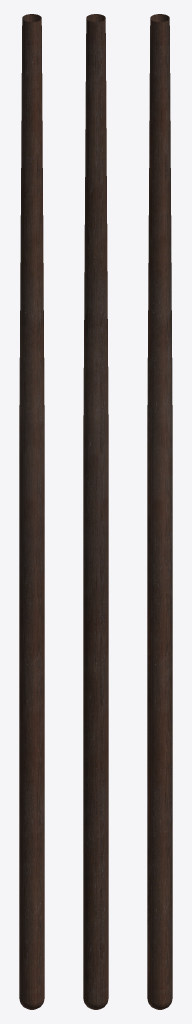
The model's file is wm_pelagir_spear_handle.fbx.
3 views of the same model, side by side, from view 1: azimuth 90°, elevation 25°; view 2: azimuth 150°, elevation 25°; view 3: azimuth 270°, elevation 25° (orthographic).
Parts seen in each view (by area): view 1: wm_pelagir_spear_handle; view 2: wm_pelagir_spear_handle; view 3: wm_pelagir_spear_handle.
Part boxes in pixels (x1,y1,x2,y2): wm_pelagir_spear_handle: (19, 14, 44, 1009); wm_pelagir_spear_handle: (83, 14, 108, 1009); wm_pelagir_spear_handle: (147, 14, 172, 1009).
Bounding box in the file's own units: 0.041 × 0.041 × 1.76.
1 material, 1 textured.
